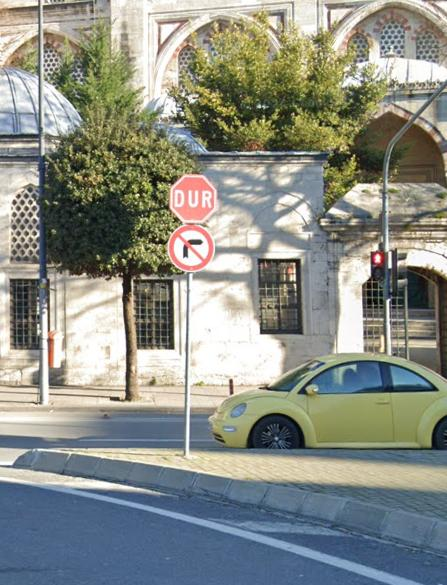rightturnsareforbidden: (169, 223, 215, 270)
stop: (170, 173, 219, 224)
